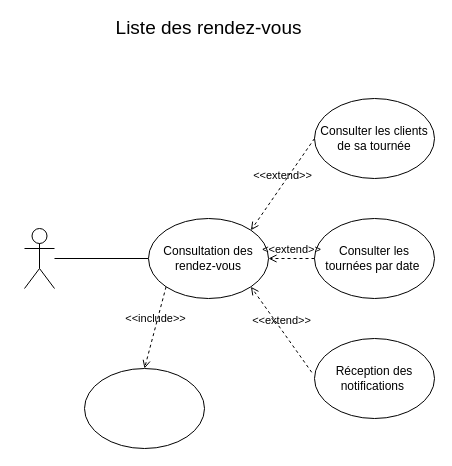
The diagram is 452 pixels wide and 466 high, and some of its shapes have lost their labels. The centre of each missing label's shape, as x and y in pixels:
Authentification: [144,408]
Vendeur: [39,258]
